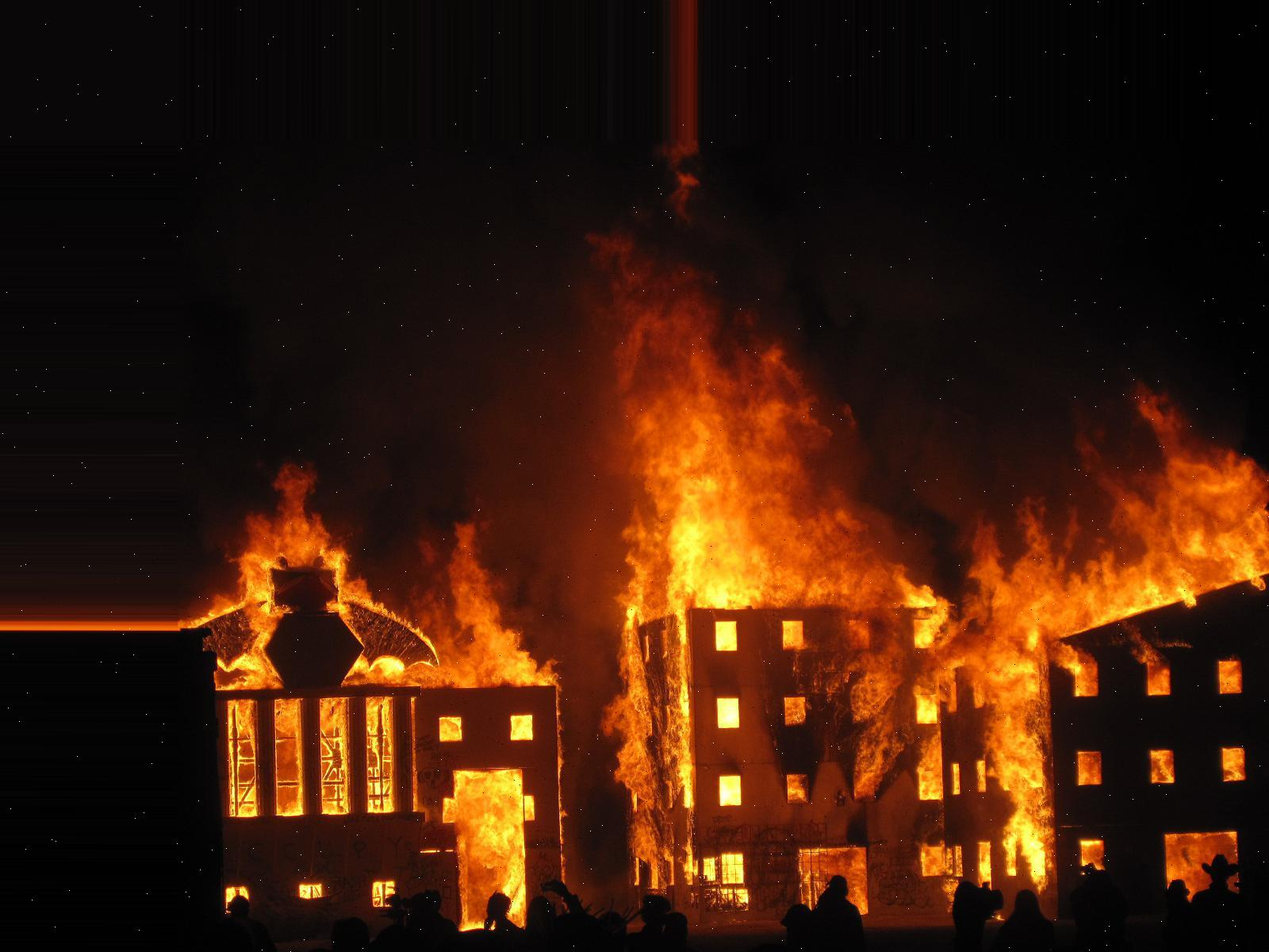fire: (604, 243, 955, 873), (974, 344, 1269, 886), (205, 455, 569, 889)
